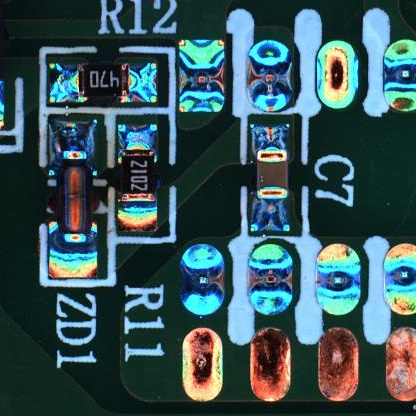spot: (178, 36, 227, 114), (312, 243, 362, 317), (179, 241, 225, 319), (316, 326, 360, 404), (313, 40, 360, 111), (180, 325, 223, 402), (247, 244, 293, 315), (250, 325, 291, 403), (248, 39, 293, 109), (383, 38, 416, 114), (383, 242, 416, 317), (384, 327, 416, 403)
